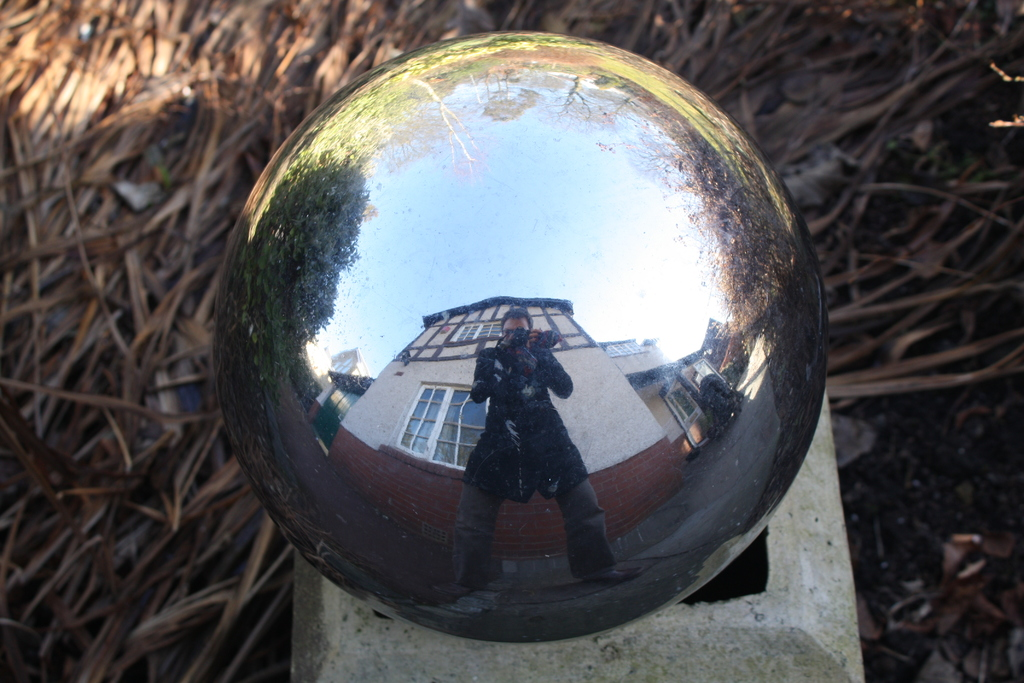Ball: (205, 30, 832, 645)
